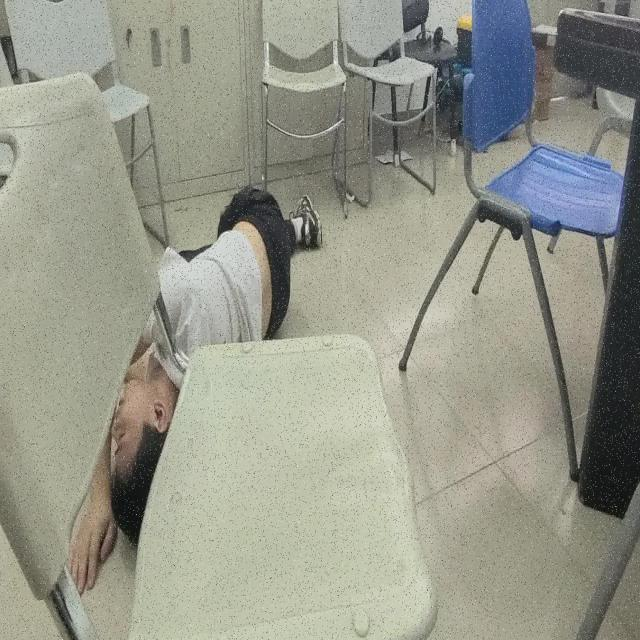fall: (61, 177, 324, 593)
